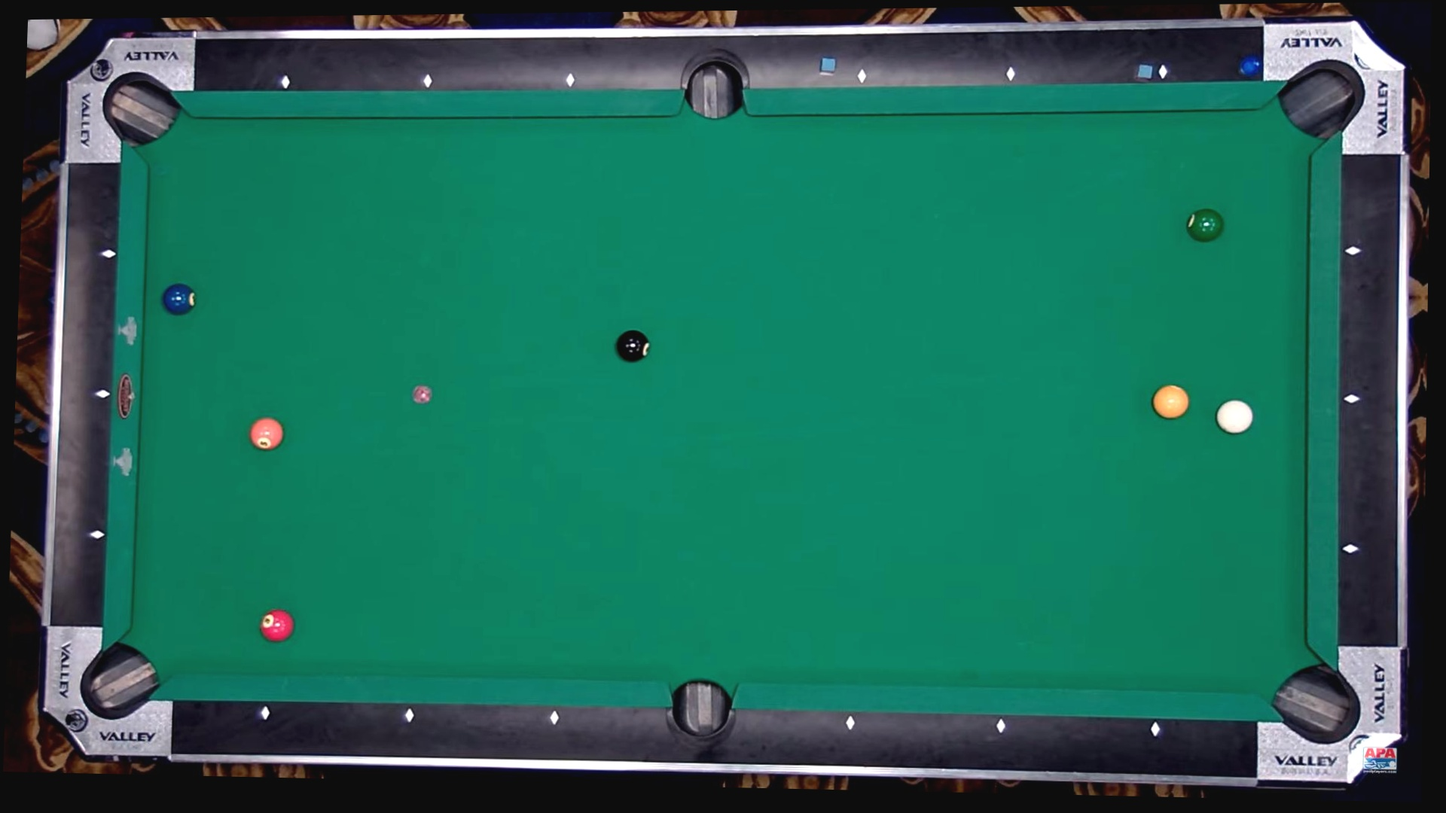Black: (91, 530, 102, 541), (422, 77, 433, 88), (1149, 724, 1160, 735), (98, 388, 108, 399), (1006, 69, 1016, 80), (1347, 245, 1357, 256), (1347, 394, 1358, 404), (1345, 545, 1356, 555), (994, 721, 1005, 731), (548, 712, 559, 722), (404, 710, 414, 721), (260, 708, 270, 719), (103, 248, 113, 258), (281, 77, 291, 87), (565, 76, 575, 86), (857, 71, 867, 81), (1158, 67, 1168, 77), (845, 718, 855, 728)
Cue: (1188, 207, 1224, 242), (1153, 384, 1189, 418), (162, 282, 197, 316), (260, 609, 296, 642), (249, 417, 284, 450)
Solid: (615, 329, 652, 362)
Stripe: (1216, 399, 1253, 434)
